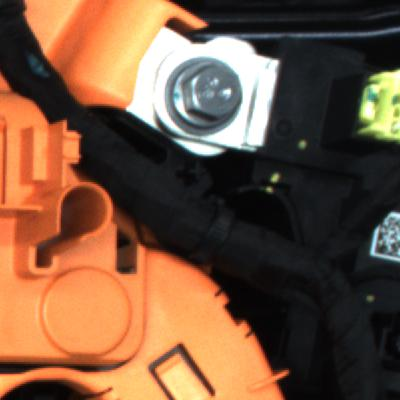nut_b: (149, 51, 253, 136)
